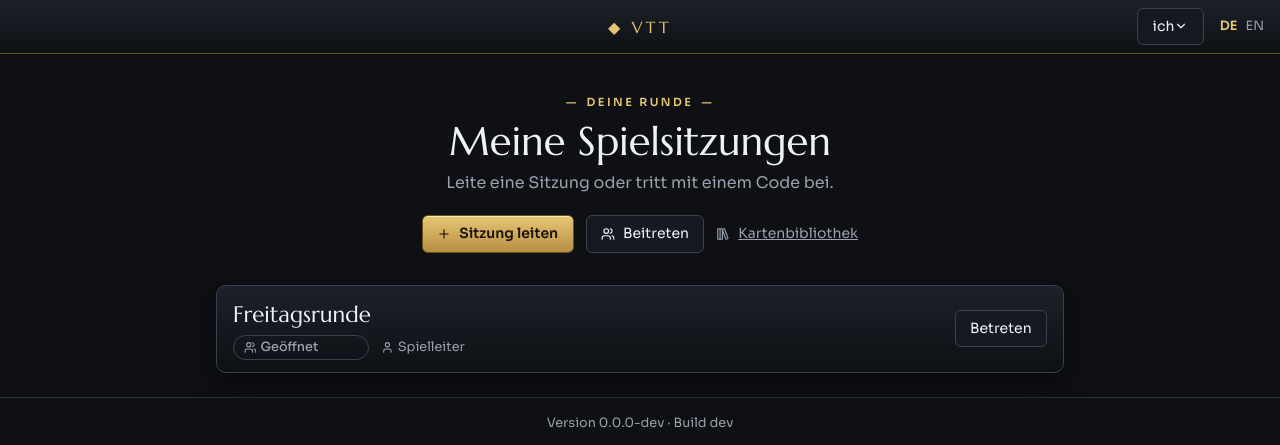
Test: Sitzungscode-Popover zeigt den Klartext
The image size is (1280, 445).
Expected: the heading "Freitagsrunde" is shown, [233,300,371,328]
Click the button "Betreten" at {"x": 1001, "y": 328}, box [955,310,1047,347]
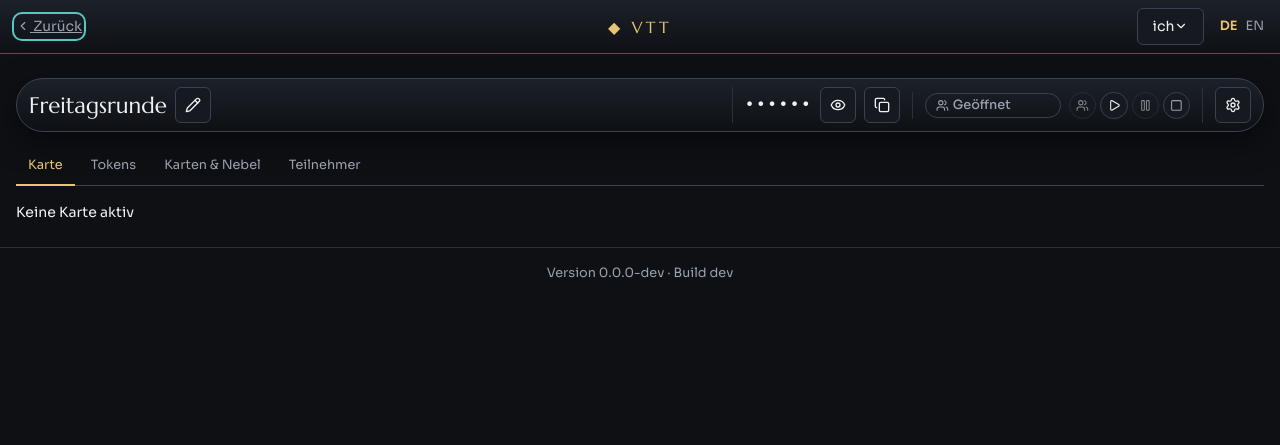
Result: the element named "Sitzung" is shown at [16,78,1264,132]
Result: the text named "Sitzungscode" reads "••••••" at [745,95,812,114]
Click the button named "Sitzungscode anzeigen" at {"x": 838, "y": 105}, box [820,87,856,123]
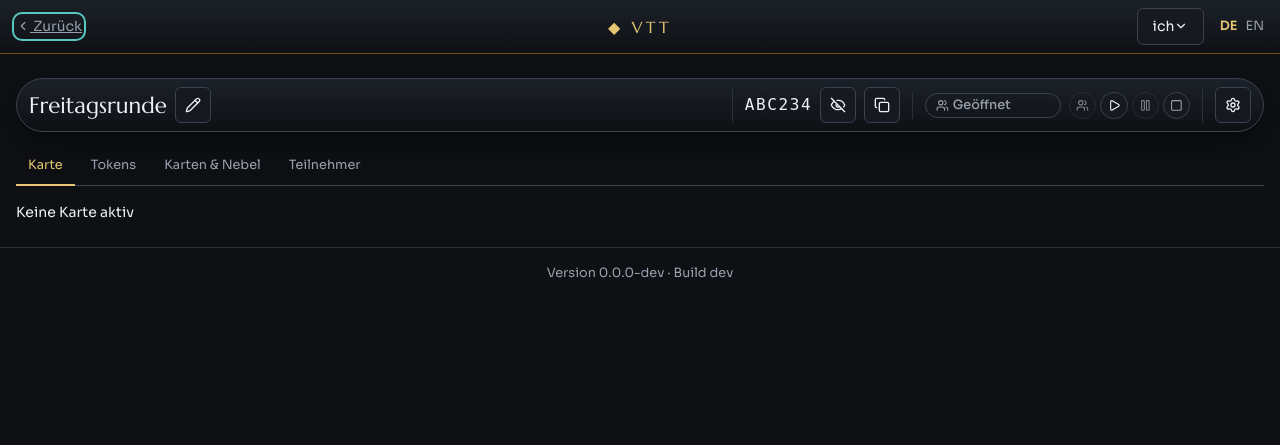
Result: the text named "Sitzungscode" reads "ABC234" at [745,95,812,114]
Result: the text "••••••" is gone
Click the button named "Sitzungscode anzeigen" at {"x": 838, "y": 105}, box [820,87,856,123]
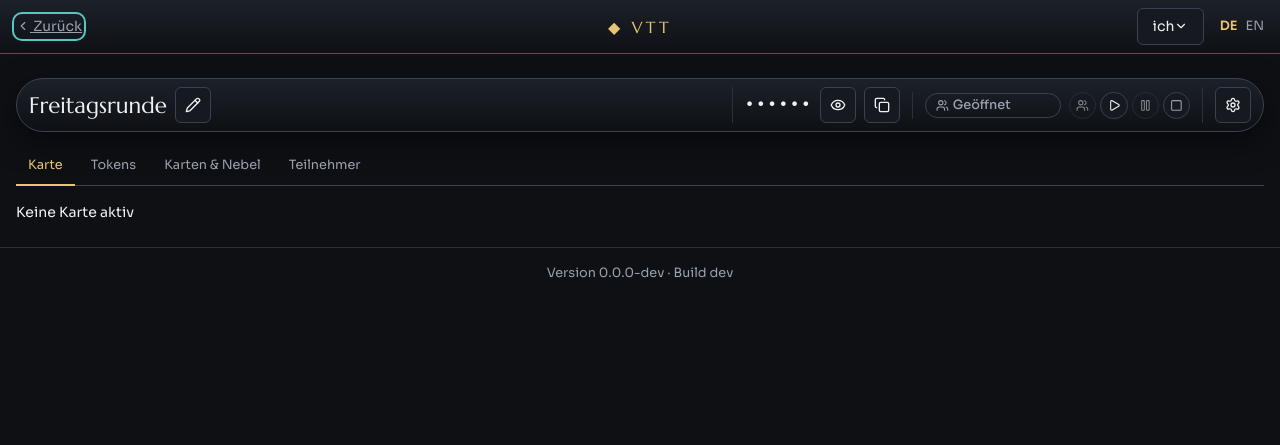
Result: the text named "Sitzungscode" reads "••••••" at [745,95,812,114]
Result: the text "ABC234" is gone
